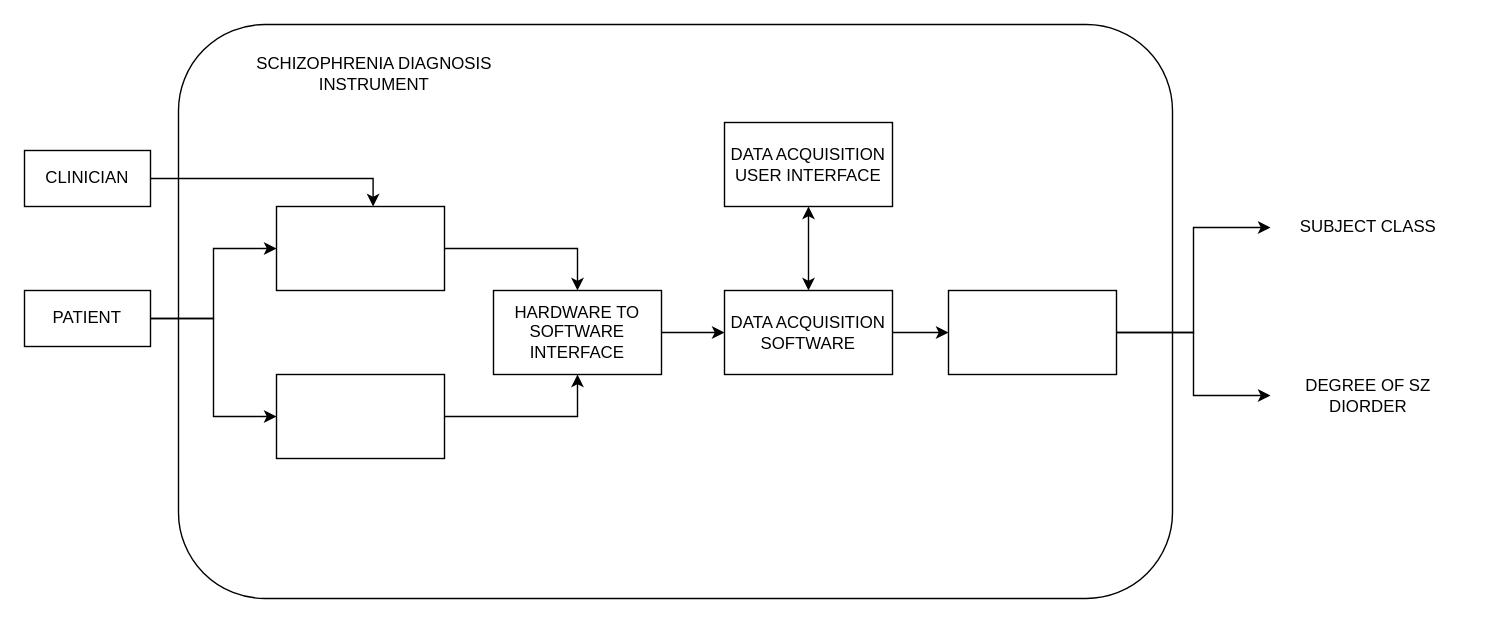
This 1491x623 diagram has some shape labels left out. Each missing label, with the centre of its shape:
"EEG HEADBOX" belongs at pixel 359 415.
"HAND-HELD ANNOTATOR" belongs at pixel 359 247.
"LEARNING MODELS" belongs at pixel 1031 331.
